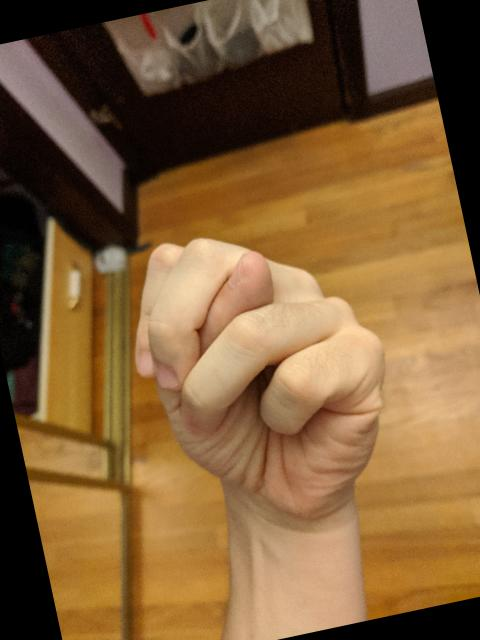N: (106, 197, 422, 551)
